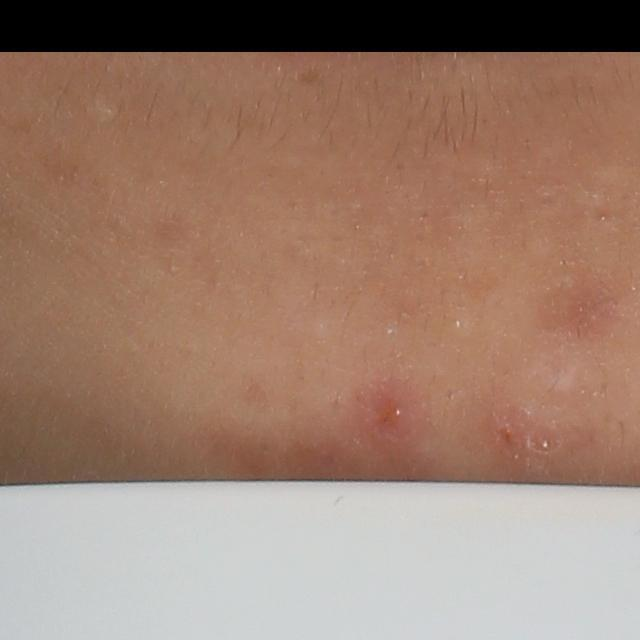hypertrophic_scar: (539, 368, 587, 401)
papule: (486, 406, 528, 457), (379, 389, 419, 435)
